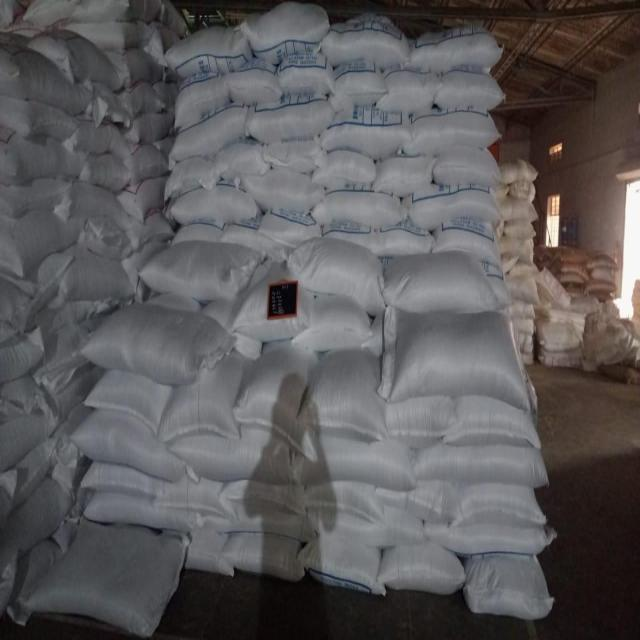gunny_bag: (26, 514, 189, 633), (377, 308, 533, 409), (73, 303, 238, 386), (232, 341, 318, 461), (70, 409, 195, 481), (299, 344, 390, 441), (160, 348, 247, 443), (284, 235, 387, 313), (292, 430, 418, 492), (382, 248, 500, 313), (169, 427, 300, 484), (140, 240, 267, 298), (0, 41, 93, 114), (411, 443, 549, 489), (84, 368, 177, 433), (231, 267, 312, 341), (6, 473, 76, 558), (29, 31, 129, 90), (1, 210, 86, 278), (465, 555, 553, 619), (238, 3, 329, 63), (0, 123, 88, 185), (306, 505, 430, 546), (298, 536, 386, 593), (9, 537, 65, 626), (320, 104, 414, 157), (169, 107, 248, 169), (245, 90, 334, 145), (165, 27, 255, 81), (449, 480, 546, 530), (318, 19, 413, 70), (15, 250, 74, 331), (407, 182, 502, 231), (400, 107, 499, 154), (445, 398, 541, 446), (84, 493, 204, 530), (236, 162, 326, 210), (376, 543, 466, 591), (406, 23, 504, 67), (294, 296, 376, 348), (61, 246, 138, 301), (154, 472, 238, 522), (171, 179, 260, 225), (218, 534, 305, 580), (312, 184, 406, 226), (1, 410, 59, 475), (433, 216, 501, 269), (55, 182, 133, 228), (0, 95, 79, 139), (305, 481, 385, 524), (263, 51, 336, 97), (174, 73, 231, 130), (434, 65, 505, 110), (434, 143, 504, 188), (64, 115, 133, 159), (378, 65, 442, 112), (37, 323, 87, 382), (17, 437, 60, 504), (219, 222, 289, 263), (387, 396, 457, 437), (51, 365, 101, 421), (81, 464, 162, 498), (221, 482, 306, 513), (1, 179, 70, 216), (375, 157, 437, 198), (72, 19, 154, 50), (228, 58, 282, 105), (332, 64, 387, 109), (311, 150, 376, 188), (116, 175, 166, 224), (186, 528, 236, 576), (0, 328, 44, 382), (263, 137, 326, 172), (259, 211, 320, 247), (165, 156, 216, 199), (378, 218, 435, 255), (127, 207, 175, 250), (79, 153, 131, 191), (125, 142, 169, 186), (107, 48, 151, 89), (321, 222, 379, 253), (118, 81, 165, 119), (124, 108, 174, 142), (145, 18, 181, 60), (91, 219, 132, 246), (500, 157, 539, 185), (505, 274, 540, 304), (502, 193, 537, 220), (500, 236, 534, 263), (504, 219, 535, 240), (510, 179, 535, 201), (506, 300, 536, 318), (520, 318, 534, 334)
